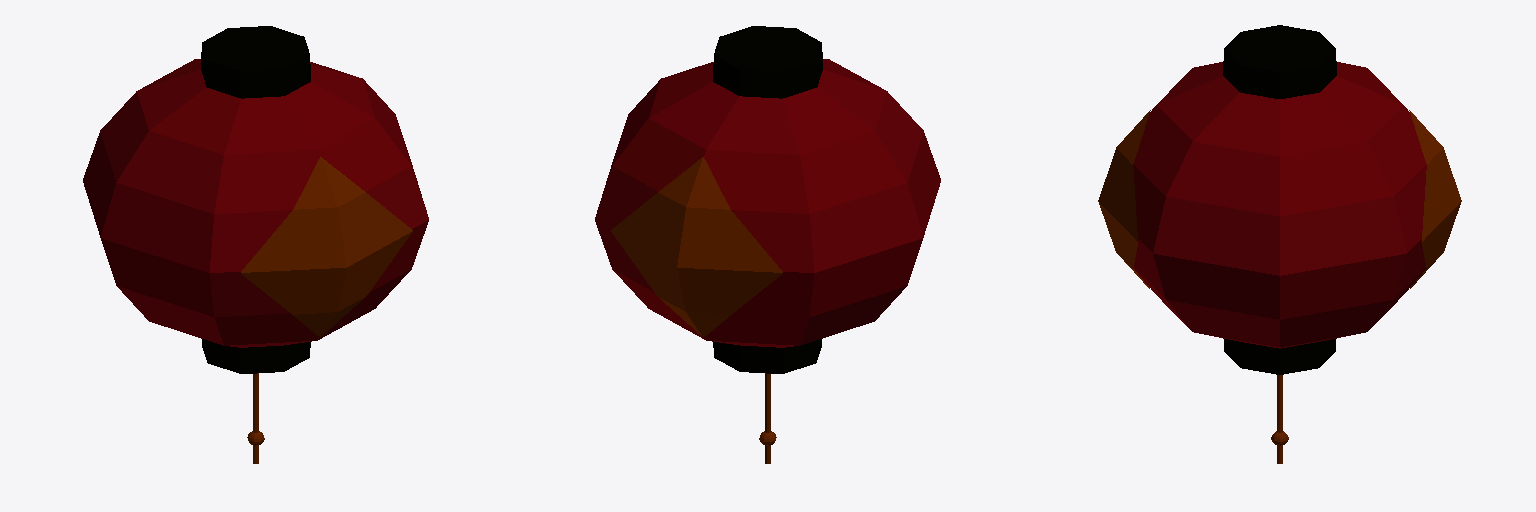
File: Lamp_A.obj
3 renders of one model, left to right at view 1: azimuth 30°, elevation 25°; view 2: azimuth 150°, elevation 25°; view 3: azimuth 270°, elevation 25°, orthographic.
Visible parts, largest first — view 1: Lamp_A; view 2: Lamp_A; view 3: Lamp_A.
Part boxes in pixels (x1,y1,x2,y2): Lamp_A: (83,26,428,463); Lamp_A: (595,26,940,463); Lamp_A: (1098,25,1461,463).
Size of the model in its own units: 4.75 by 6.05 by 4.81.